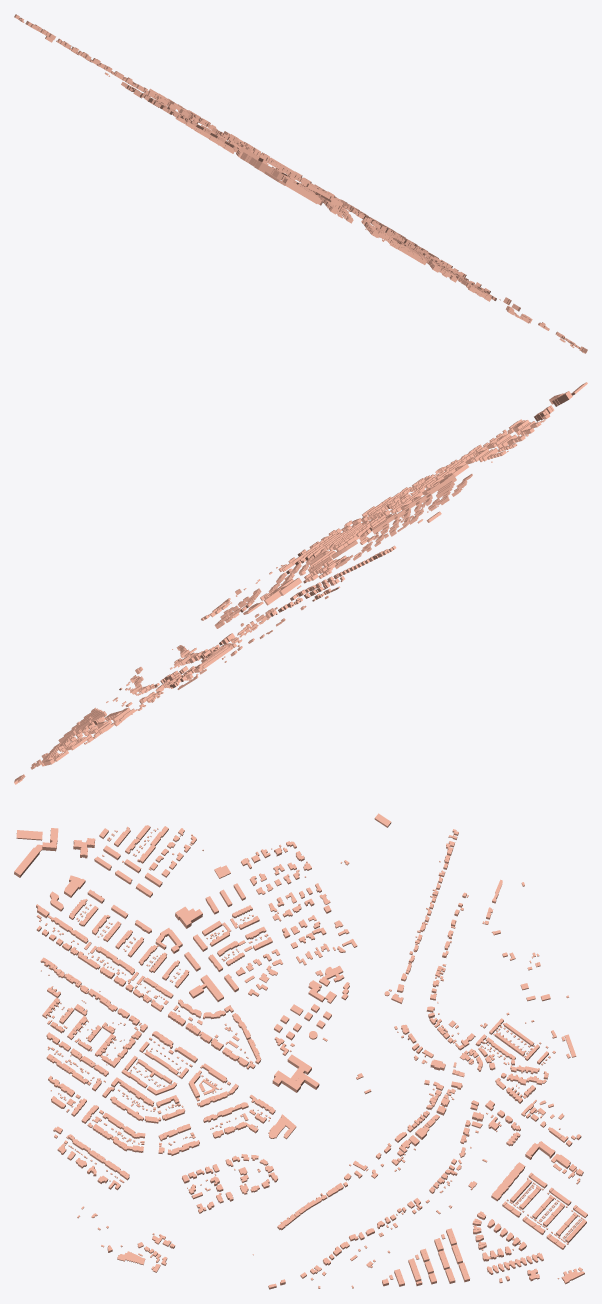
3 views of the same model, one above another, from view 1: azimuth 30°, elevation 25°; view 2: azimuth 150°, elevation 25°; view 3: azimuth 270°, elevation 25° (orthographic). The views are drawn at different scales.
Size of the model in its own units: 978 by 755 by 1308.
